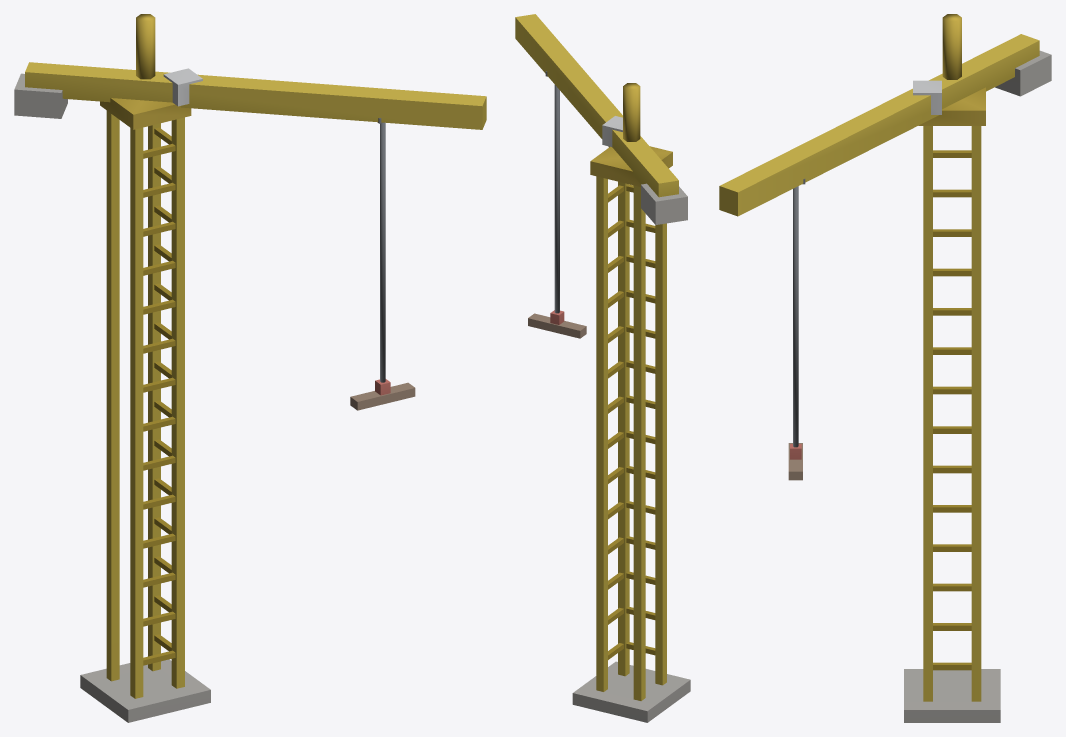
Rendered from crane-1-2.glb.
3 views of the same model, side by side, from view 1: azimuth 30°, elevation 25°; view 2: azimuth 150°, elevation 25°; view 3: azimuth 270°, elevation 25° (orthographic). The views are drawn at different scales.
Visible parts, largest first — view 1: crane-1-2; view 2: crane-1-2; view 3: crane-1-2.
Part boxes in pixels (x1=…): crane-1-2: x1=14, y1=14, x2=486, y2=722; crane-1-2: x1=515, y1=14, x2=690, y2=722; crane-1-2: x1=719, y1=14, x2=1051, y2=722.
Size of the model in its own units: 0.8017 by 1.57 by 0.6874.
